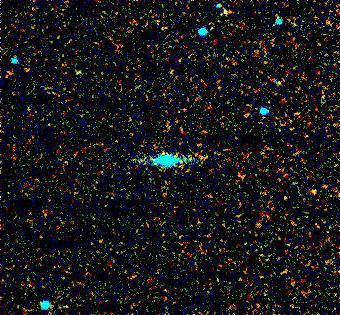star: (300, 174, 330, 204)
